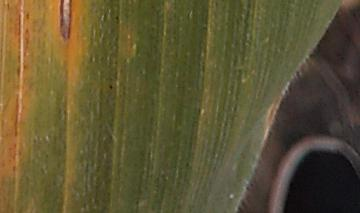tarspot: (23, 10, 32, 21), (113, 14, 120, 25), (106, 82, 113, 90), (183, 161, 190, 167)
